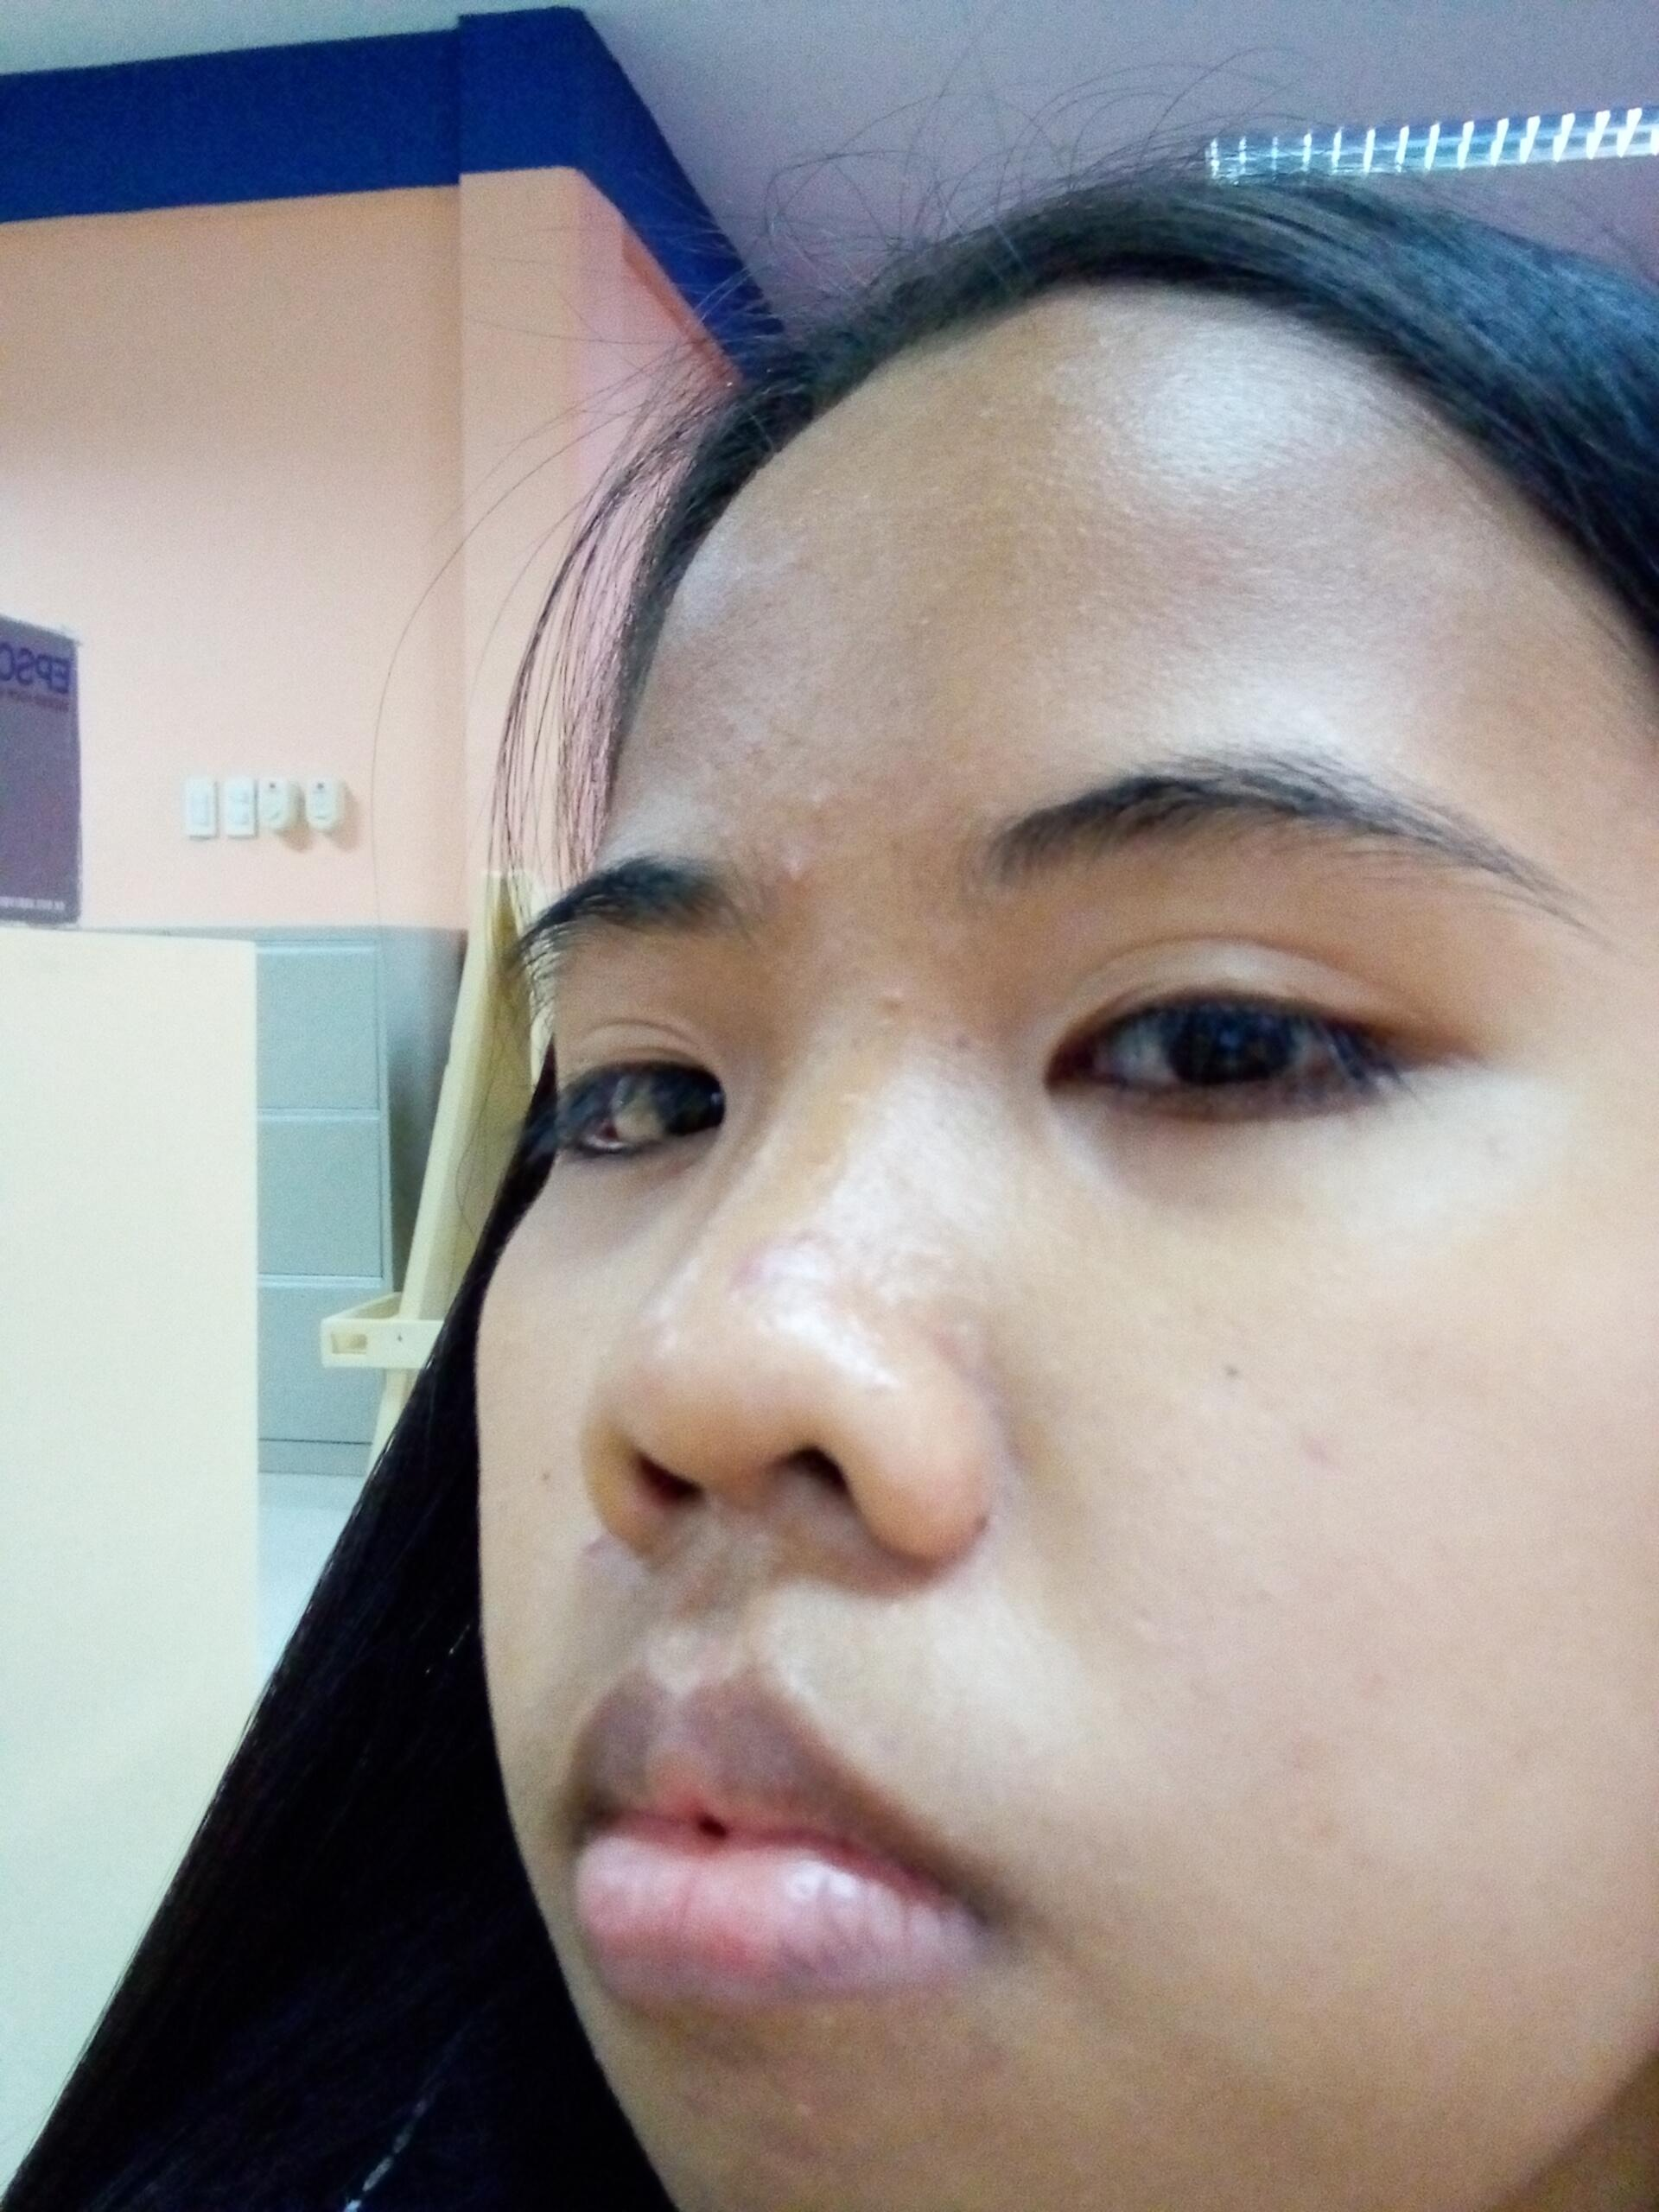Acne: (781, 853, 829, 911), (786, 786, 852, 820), (877, 982, 915, 1019), (586, 1524, 605, 1564)
